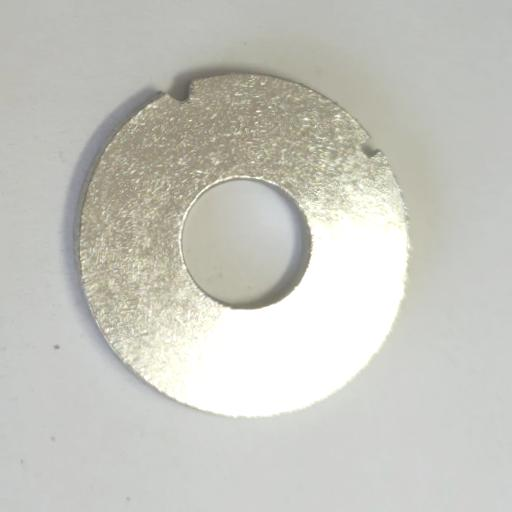burr: (164, 81, 194, 104), (358, 136, 382, 159)
